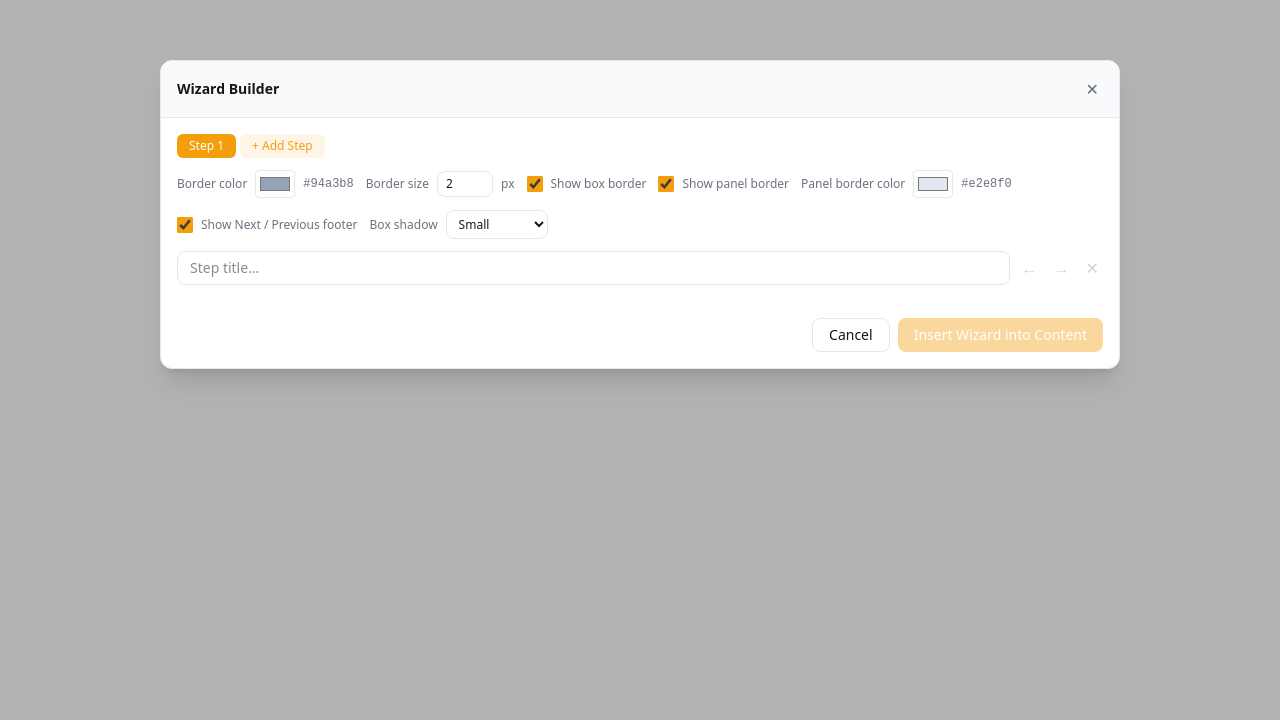
Test case: TC-19.2.3 Remove step button removes it
# add a second step first
Click the button "+ Add Step": click(282, 146) x1=240 y1=134 x2=325 y2=158
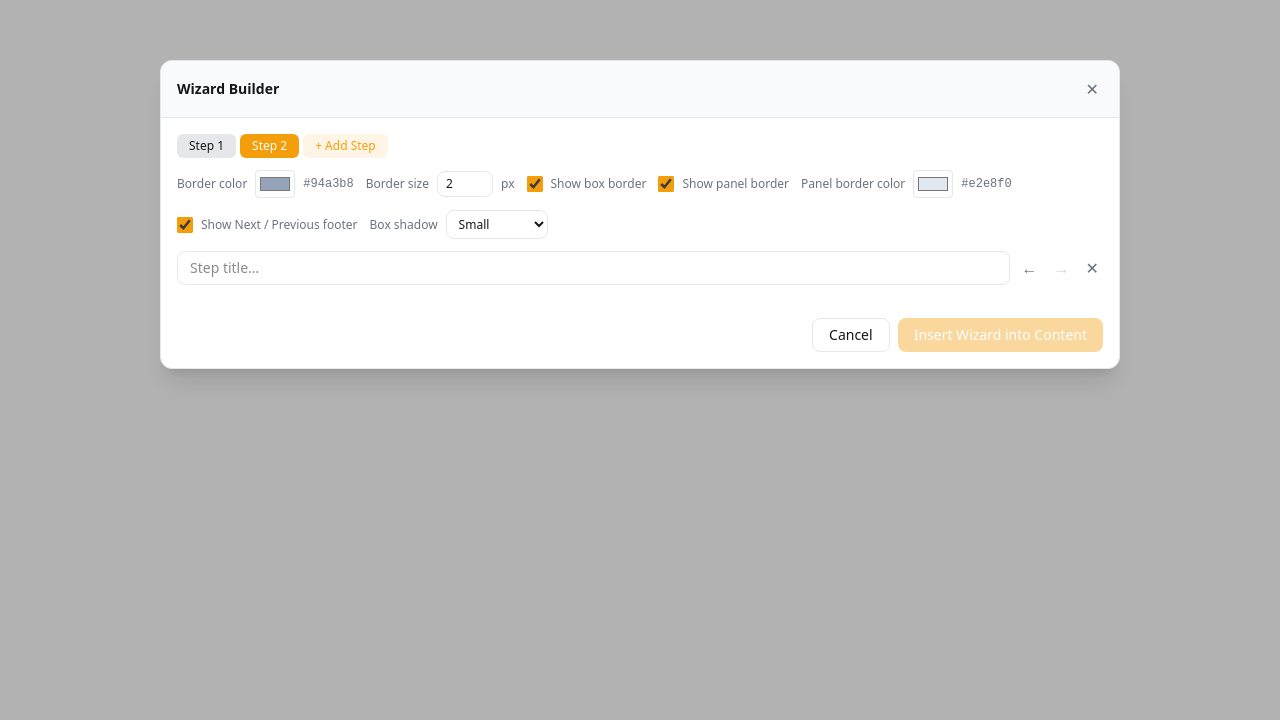
Expected: the number of tabs is 2, x1=177 y1=134 x2=236 y2=158; x1=240 y1=134 x2=299 y2=158
Click the button named "Remove step": click(1092, 268) x1=1082 y1=252 x2=1103 y2=284
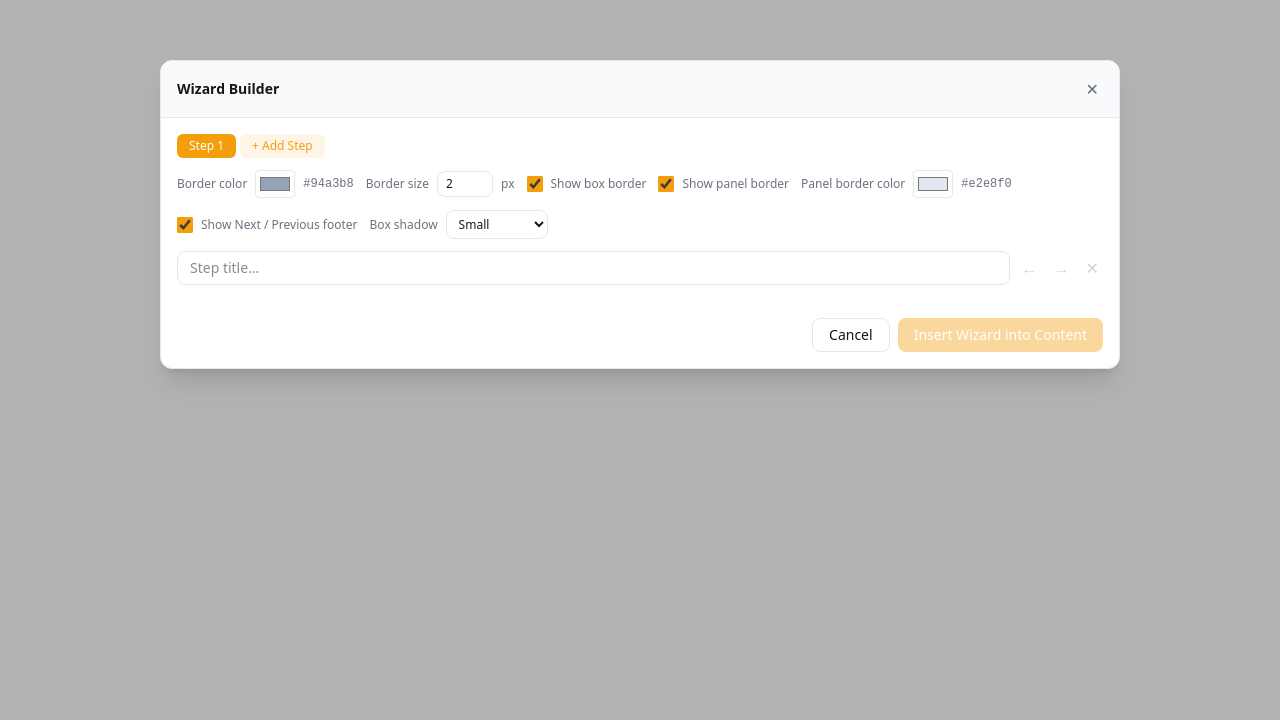
Expected: the number of tabs is 1, x1=177 y1=134 x2=236 y2=158
